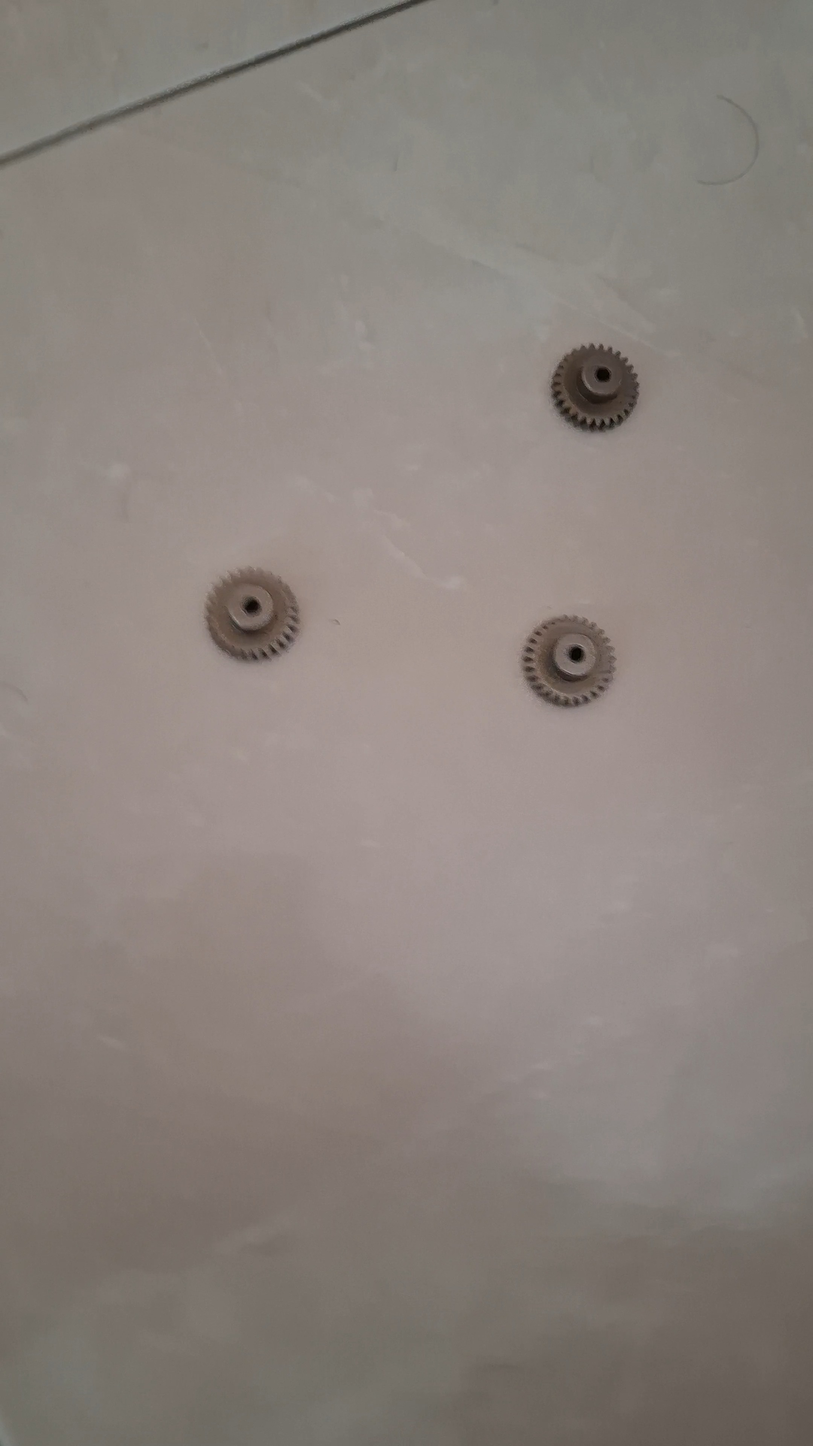spur gear: (206, 569, 299, 659), (522, 616, 615, 706), (551, 345, 638, 429)
